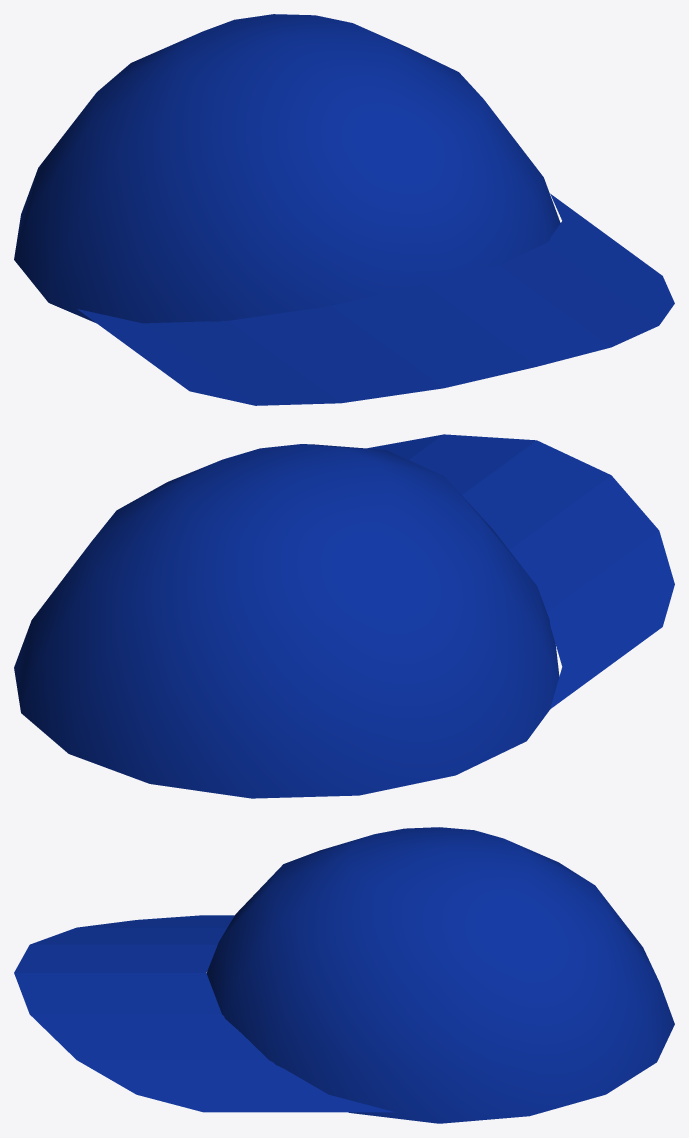
The model's file is cap.glb.
The picture shows the model from 3 angles, top to bottom: view 1: azimuth 30°, elevation 25°; view 2: azimuth 150°, elevation 25°; view 3: azimuth 270°, elevation 25°; orthographic projection. The views are drawn at different scales.
Visible parts, largest first — view 1: cap.001; view 2: cap.001; view 3: cap.001.
Boxes of the visible parts, box(x1,y1,x2,y2) form: cap.001: box(14, 14, 674, 405); cap.001: box(14, 434, 674, 798); cap.001: box(14, 827, 674, 1123).
Bounding box in the file's own units: 1.02 × 0.4185 × 1.43.
